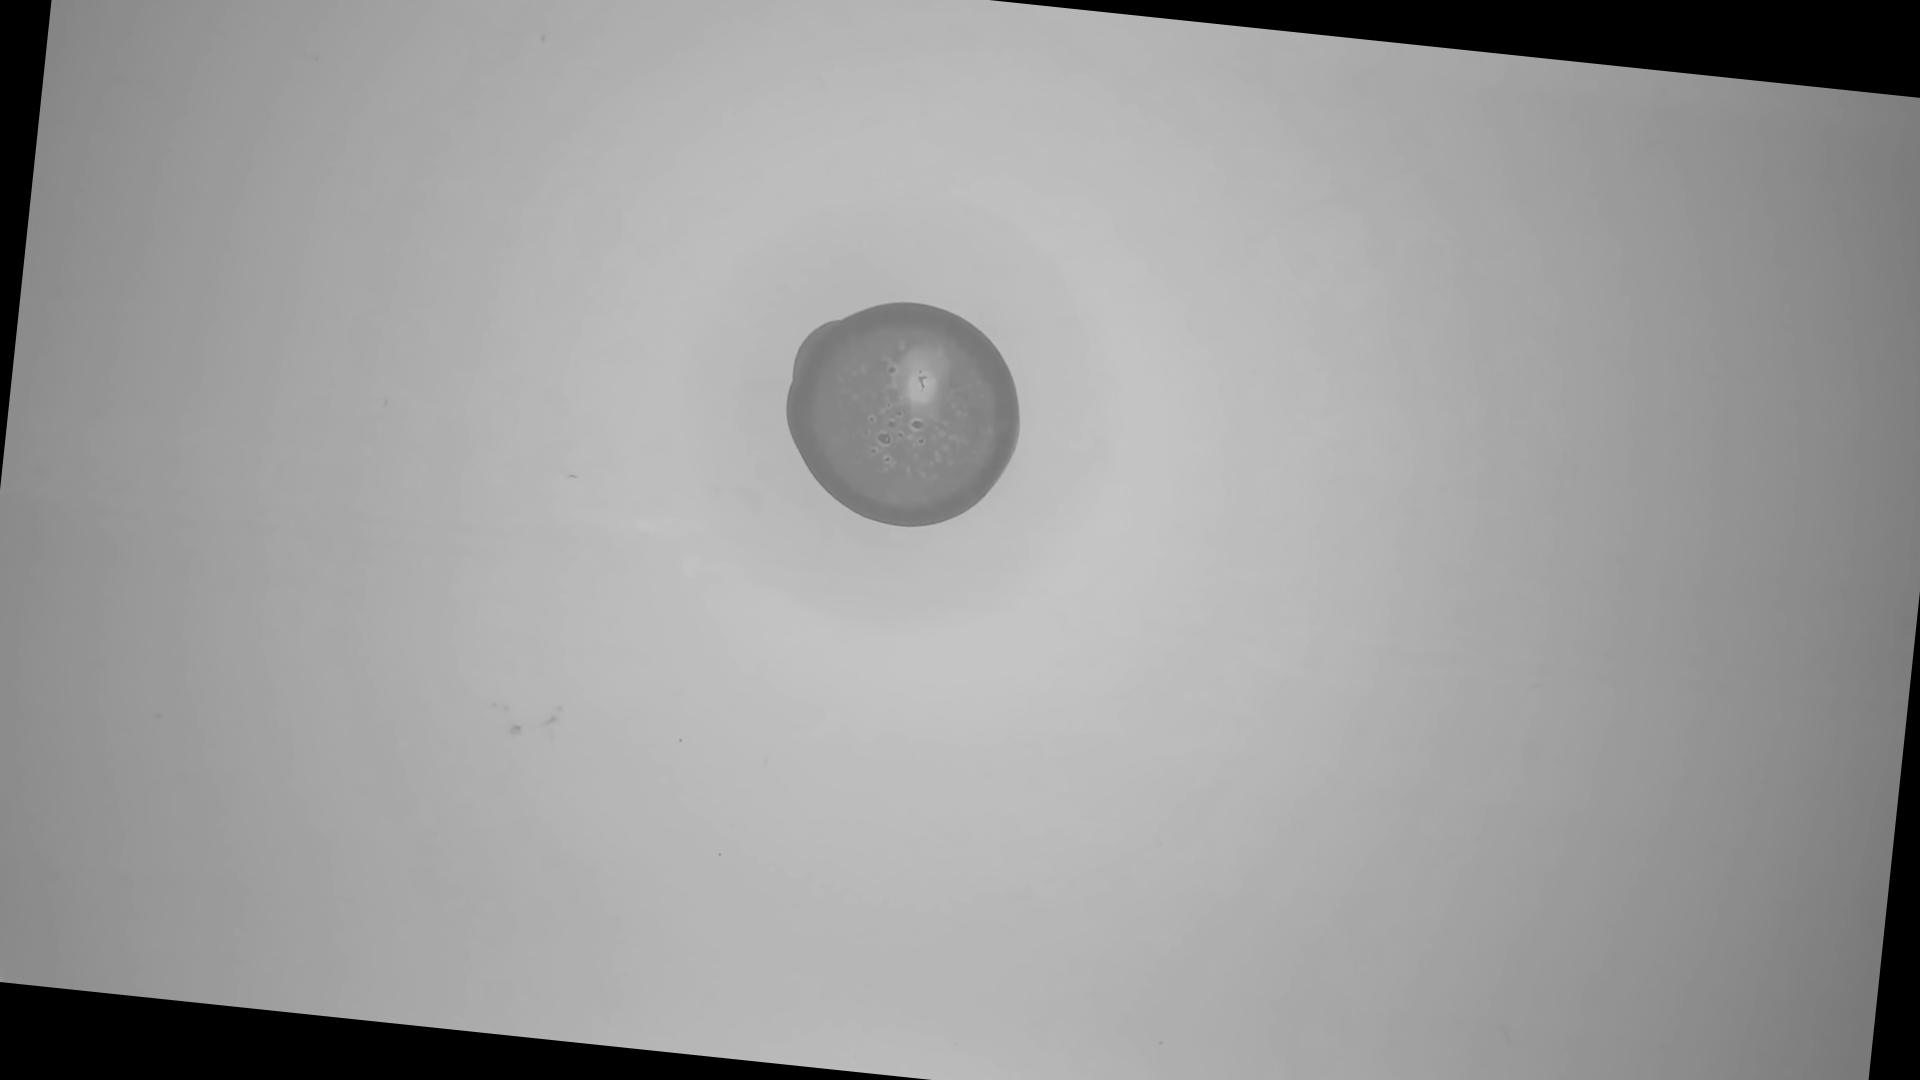abnormal: (774, 287, 1036, 542)
